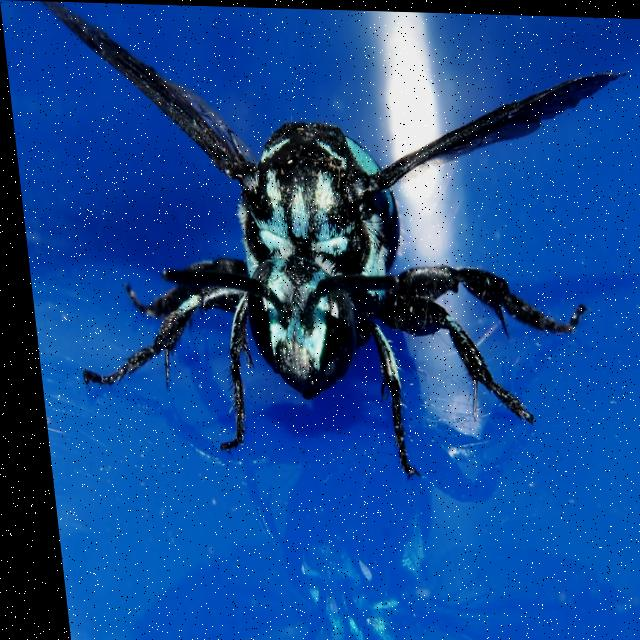Thyreus: (29, 1, 640, 497)
